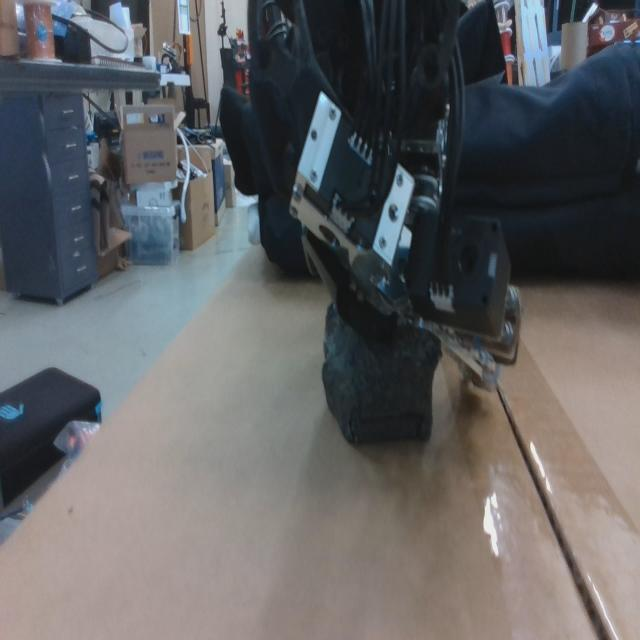stone: (321, 299, 444, 449)
